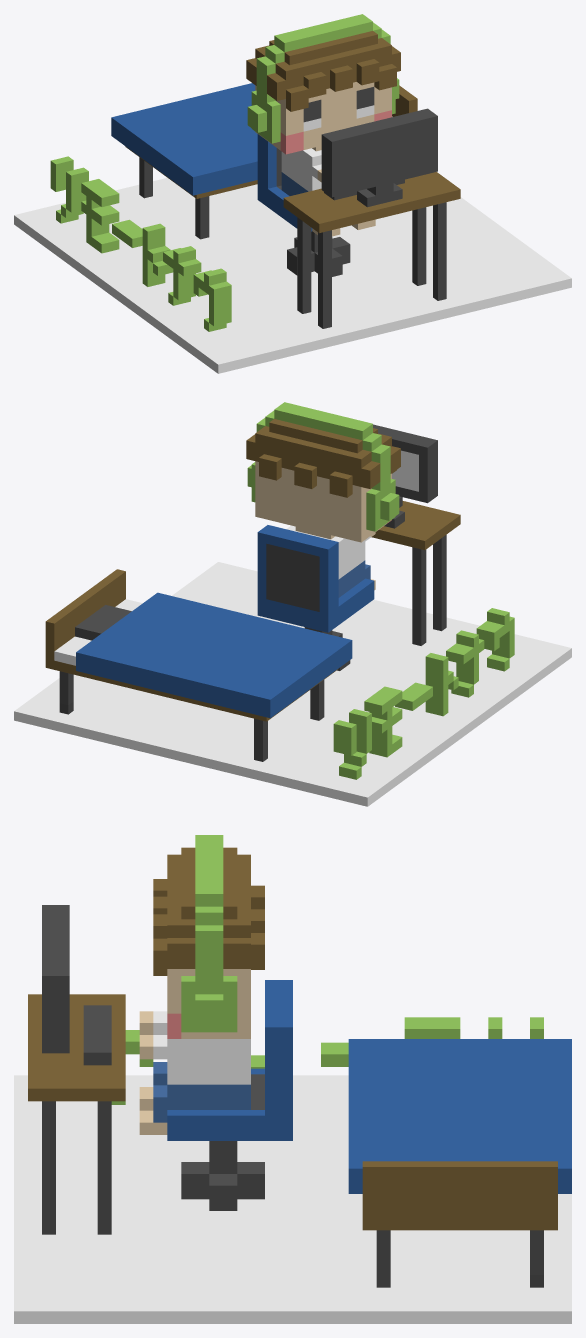
Rendered from myroom.glb.
3 renders of one model, top to bottom at view 1: azimuth 30°, elevation 25°; view 2: azimuth 150°, elevation 25°; view 3: azimuth 270°, elevation 25°, orthographic. The views are drawn at different scales.
Visible parts, largest first — view 1: ObjObject.003; view 2: ObjObject.003; view 3: ObjObject.003.
Part boxes in pixels (x1,y1,x2,y2): ObjObject.003: (14, 14, 571, 373); ObjObject.003: (14, 402, 571, 806); ObjObject.003: (14, 835, 571, 1323).
Bounding box in the file's own units: 4 × 2.7 × 4.
1 material, 1 textured.
